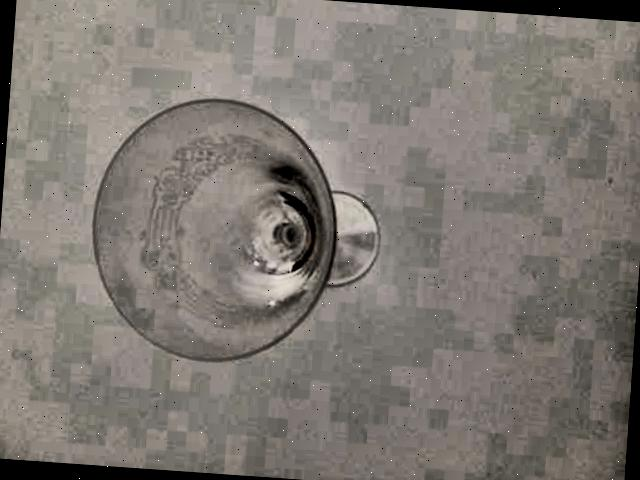Almennt: (60, 74, 418, 394)
